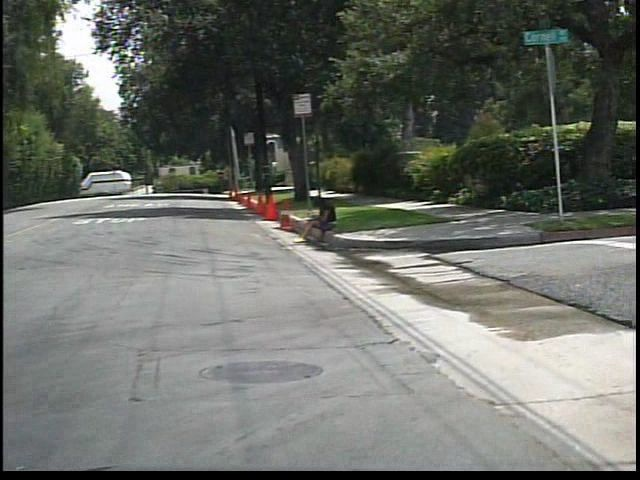person: (294, 193, 349, 246)
